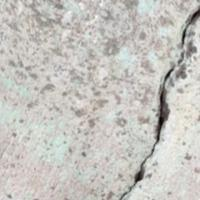crack: (107, 0, 199, 199)
